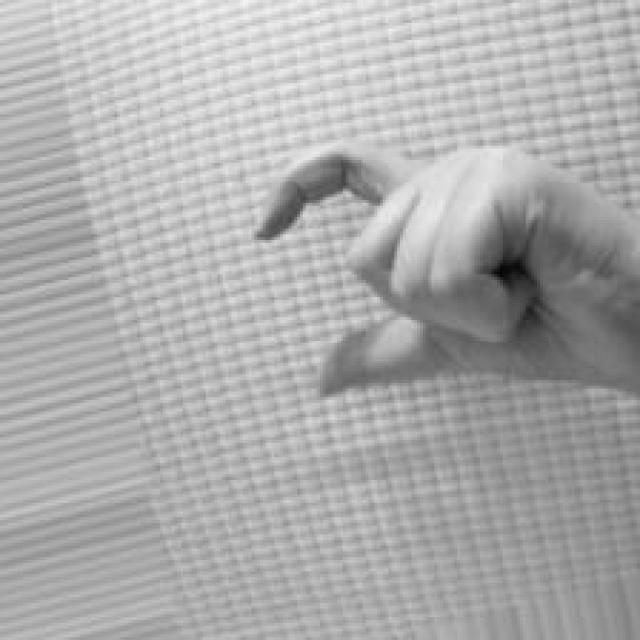C: (255, 137, 640, 401)
